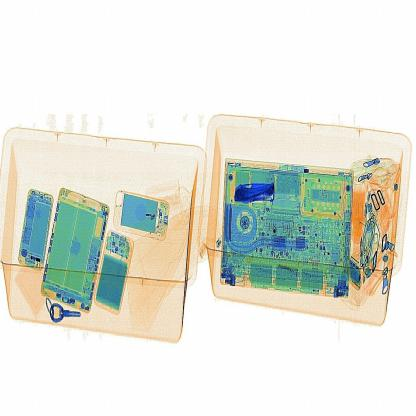knife: (232, 176, 278, 206)
